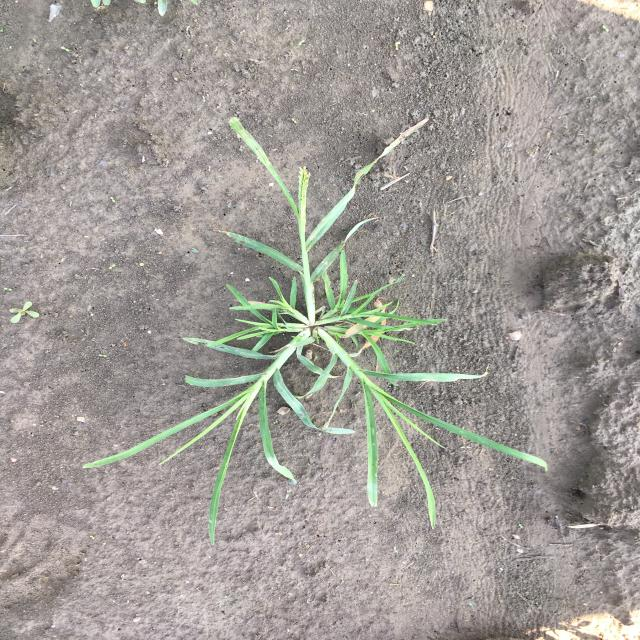Goosegrass: (80, 114, 552, 546)
